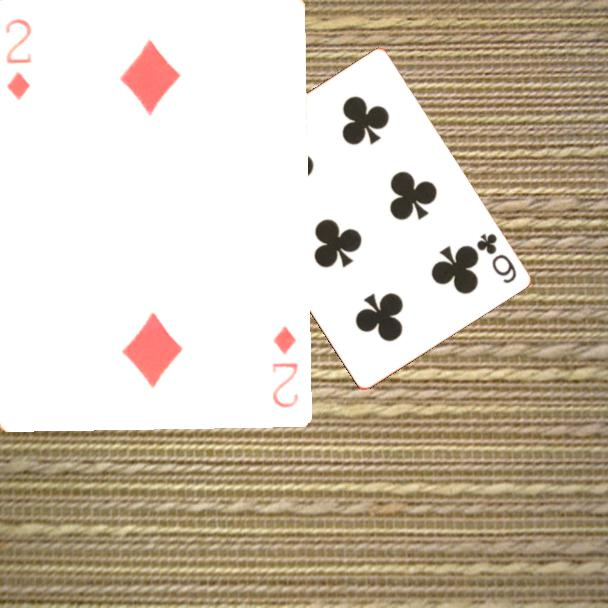c06: (472, 230, 519, 286)
d02: (1, 14, 34, 102), (268, 322, 301, 410)
